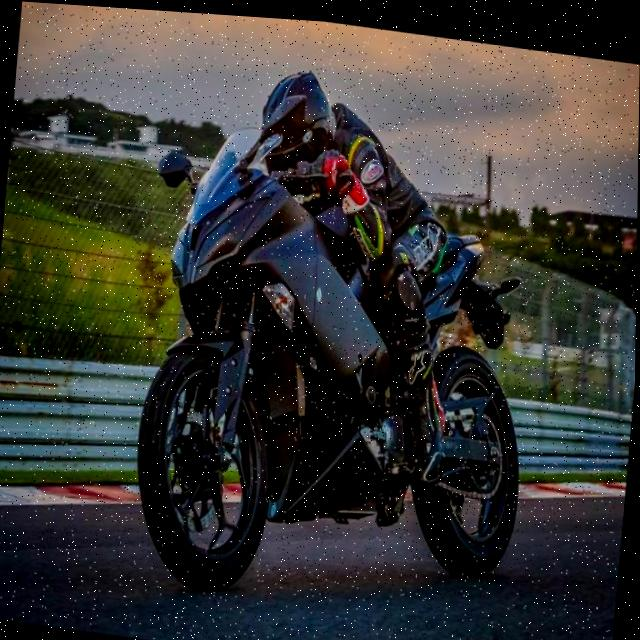motorcycle: (115, 111, 562, 636)
